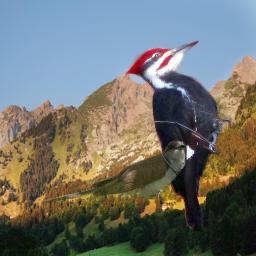Cuckoo: (38, 139, 186, 207)
Woodpecker: (125, 40, 232, 232)
